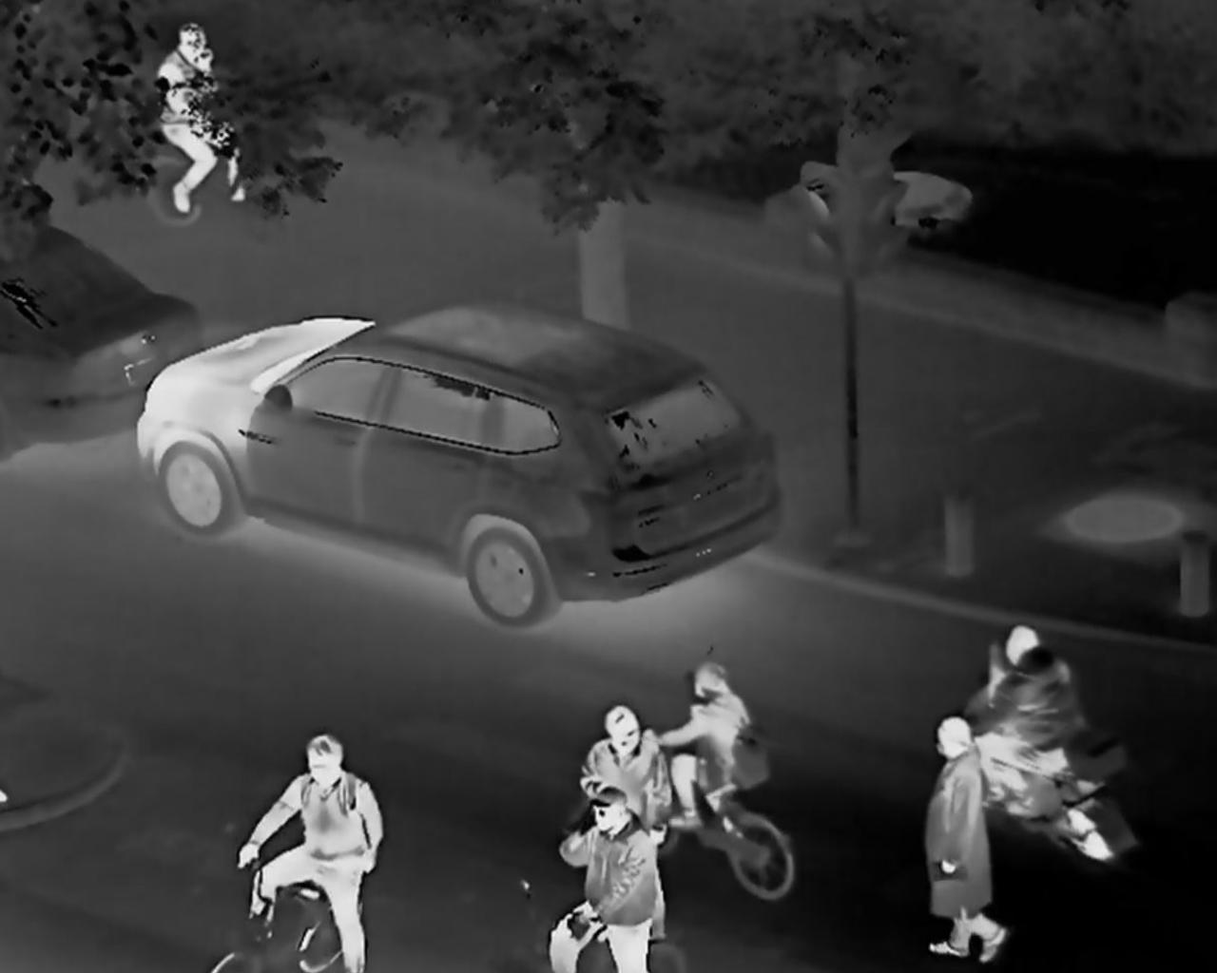person: (284, 709, 414, 940), (901, 711, 1020, 959), (986, 618, 1101, 779), (584, 789, 684, 943), (161, 27, 251, 190), (687, 658, 771, 814), (576, 683, 679, 797)
